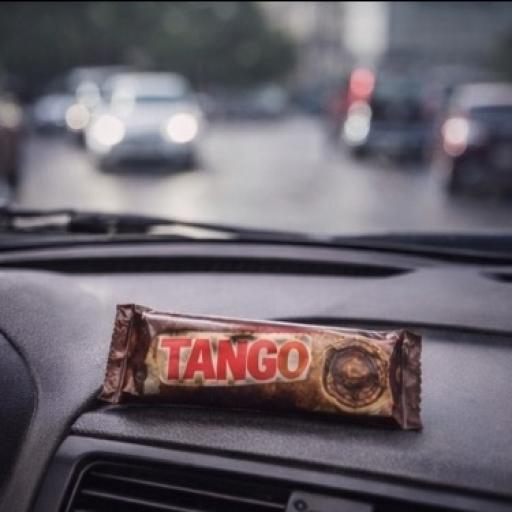tango: (79, 251, 414, 495)
